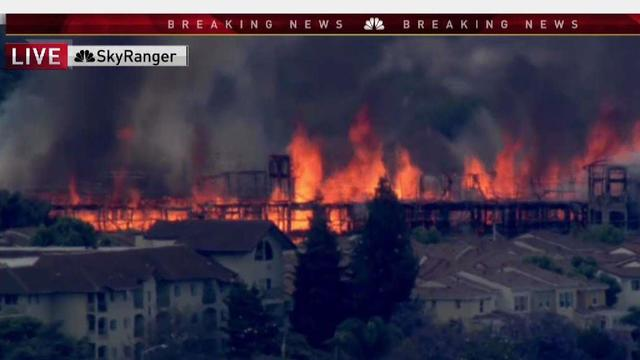fire: (287, 140, 405, 203), (84, 193, 248, 226), (464, 154, 581, 196)
smoke: (300, 46, 576, 140), (143, 78, 273, 181), (8, 84, 63, 191)
